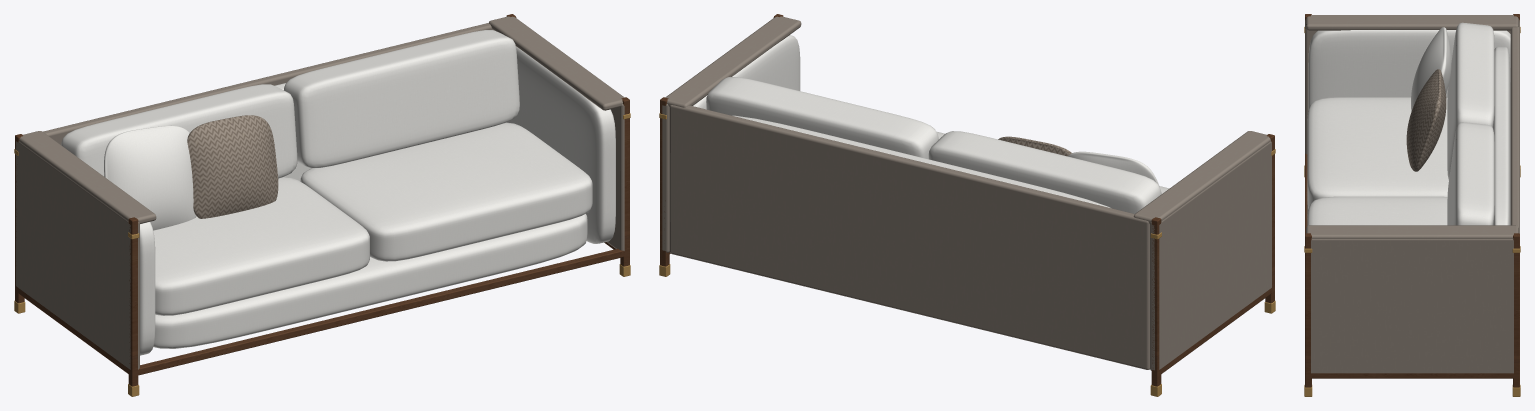
The model's file is oslo-sofa-set--sofa3.glb.
3 views of the same model, side by side, from view 1: azimuth 30°, elevation 25°; view 2: azimuth 150°, elevation 25°; view 3: azimuth 270°, elevation 25° (orthographic). The views are drawn at different scales.
Visible parts, largest first — view 1: seat1, backc1, seat0, arm-1, seatbase, armpad1, p1, backc0, p0, rail_front, armcap1, armcap-1 (+6 smaller); view 2: backpanel, arm-1, backc1, backc0, armcap1, armcap-1, armpad1, backpad, arm1, post-11, p0, rail_side-1 (+3 smaller); view 3: arm1, seat0, armpad-1, backc0, backc1, seat1, backpad, armcap-1, armcap1, p1, backpanel, p0 (+5 smaller).
Boxes of the visible parts, x1,y1,x2,y2 form: seat1: [300, 122, 592, 261]; backc1: [284, 30, 519, 168]; seat0: [153, 177, 369, 315]; arm-1: [16, 141, 139, 369]; seatbase: [153, 214, 587, 348]; armpad1: [506, 46, 615, 243]; p1: [187, 115, 278, 218]; backc0: [61, 84, 297, 178]; p0: [104, 125, 196, 230]; rail_front: [138, 248, 624, 375]; armcap1: [489, 16, 624, 110]; armcap-1: [19, 131, 156, 223]; backpanel: [669, 105, 1149, 369]; arm-1: [1150, 141, 1271, 370]; backc1: [706, 77, 938, 159]; backc0: [928, 131, 1161, 213]; armcap1: [665, 16, 801, 107]; armcap-1: [1133, 131, 1270, 223]; armpad1: [693, 35, 800, 109]; backpad: [732, 115, 1110, 207]; arm1: [662, 104, 669, 252]; post-11: [1151, 217, 1161, 386]; p0: [1068, 151, 1161, 194]; rail_side-1: [1152, 286, 1274, 375]; arm1: [1311, 239, 1513, 373]; seat0: [1307, 97, 1448, 208]; armpad-1: [1308, 30, 1510, 110]; backc0: [1447, 22, 1494, 180]; backc1: [1447, 122, 1494, 225]; seat1: [1307, 196, 1447, 225]; backpad: [1493, 47, 1510, 225]; armcap-1: [1306, 15, 1518, 30]; armcap1: [1306, 225, 1518, 238]; p1: [1406, 69, 1446, 171]; backpanel: [1510, 22, 1519, 233]; p0: [1411, 27, 1451, 111].
Size of the model in its own units: 2.25 by 0.8277 by 0.924.
5 materials, 4 textured.
